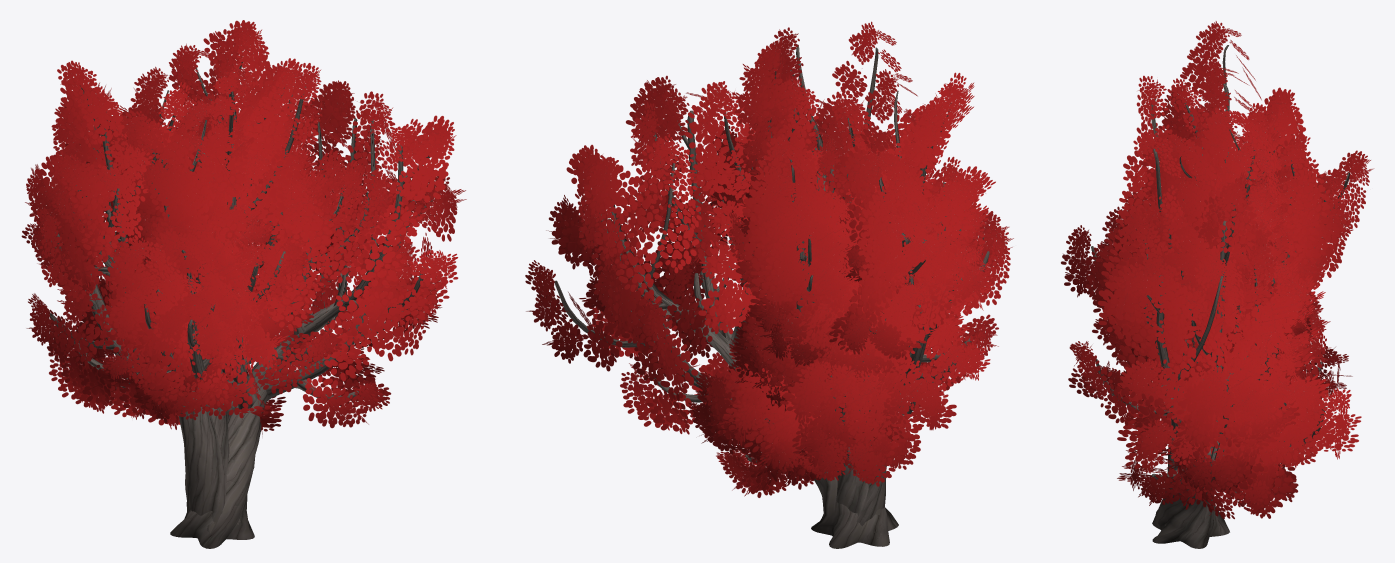
Rendered from TwistedTrees.glb.
3 renders of one model, left to right at view 1: azimuth 30°, elevation 25°; view 2: azimuth 150°, elevation 25°; view 3: azimuth 270°, elevation 25°, orthographic. The views are drawn at different scales.
Parts seen in each view (by area): view 1: TwistedTree_2, TwistedTree_1, TwistedTree_3, TwistedTree_4, TwistedTree_5; view 2: TwistedTree_1, TwistedTree_2, TwistedTree_4, TwistedTree_3, TwistedTree_5; view 3: TwistedTree_1, TwistedTree_4, TwistedTree_2, TwistedTree_3, TwistedTree_5.
Part boxes in pixels (box(x1,y1,x2,y2)): TwistedTree_2: box(21, 60, 321, 532); TwistedTree_1: box(145, 61, 466, 548); TwistedTree_3: box(48, 92, 396, 533); TwistedTree_4: box(64, 20, 368, 532); TwistedTree_5: box(92, 104, 346, 532); TwistedTree_1: box(525, 75, 898, 548); TwistedTree_2: box(727, 21, 1012, 520); TwistedTree_4: box(712, 39, 944, 517); TwistedTree_3: box(688, 120, 1013, 521); TwistedTree_5: box(711, 114, 931, 525); TwistedTree_1: box(1068, 172, 1361, 548); TwistedTree_4: box(1083, 86, 1373, 482); TwistedTree_2: box(1098, 21, 1310, 535); TwistedTree_3: box(1061, 162, 1354, 507); TwistedTree_5: box(1113, 148, 1348, 385).
Size of the model in its own units: 17.96 by 18.95 by 12.13.
Materials: 2 (2 with a texture image).
